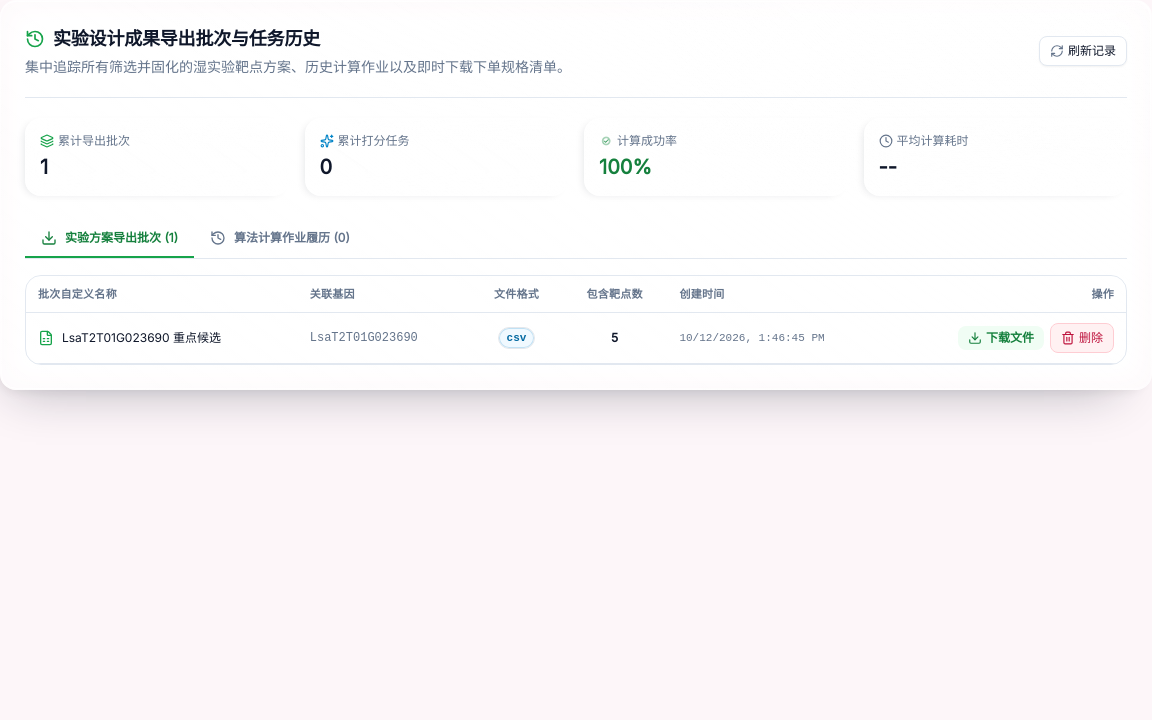
Test case: ExportHistoryPanel › deletes an export batch archive after confirmation
This screenshot has width=1152, height=720.
Expected: the text "LsaT2T01G023690 重点候选" is shown, [62, 330, 221, 346]
Click the button "删除": (1082, 338) [1050, 323, 1114, 353]
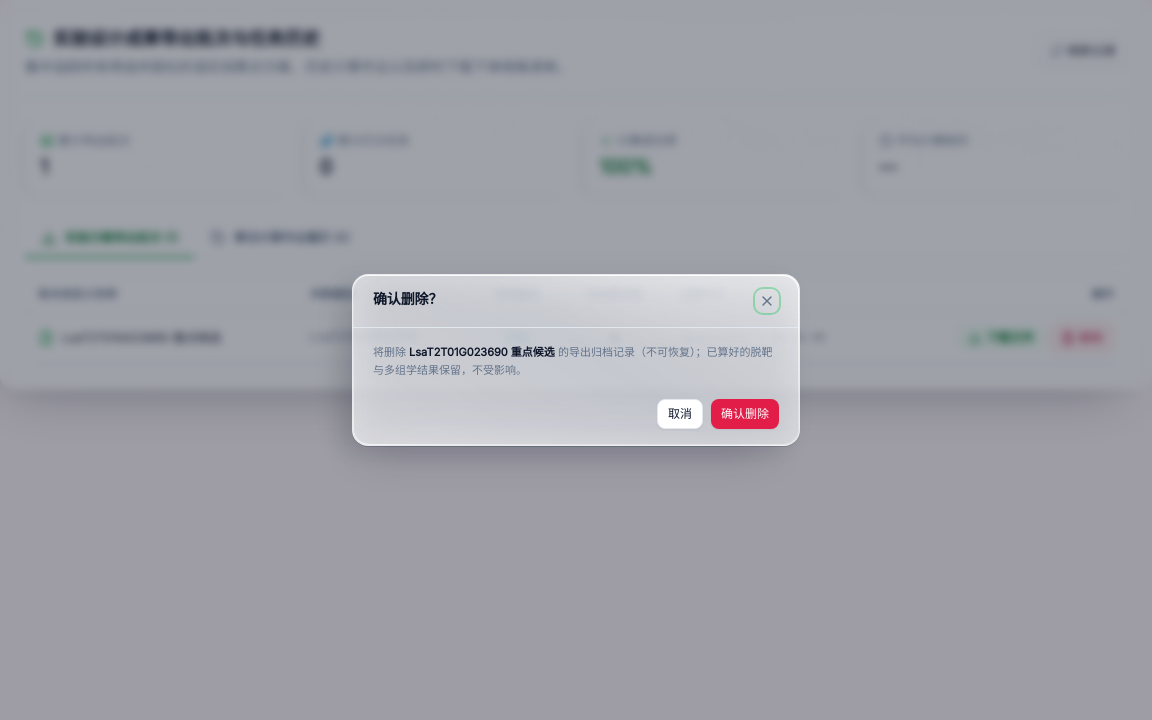
Expected: the text "将删除 LsaT2T01G023690 重点候选 的导出归档记录（不可恢复）；已算好的脱靶与多组学结果保留，不受影响。" is shown, [373, 345, 772, 376]
Click the button "确认删除": (745, 414) [711, 399, 779, 429]
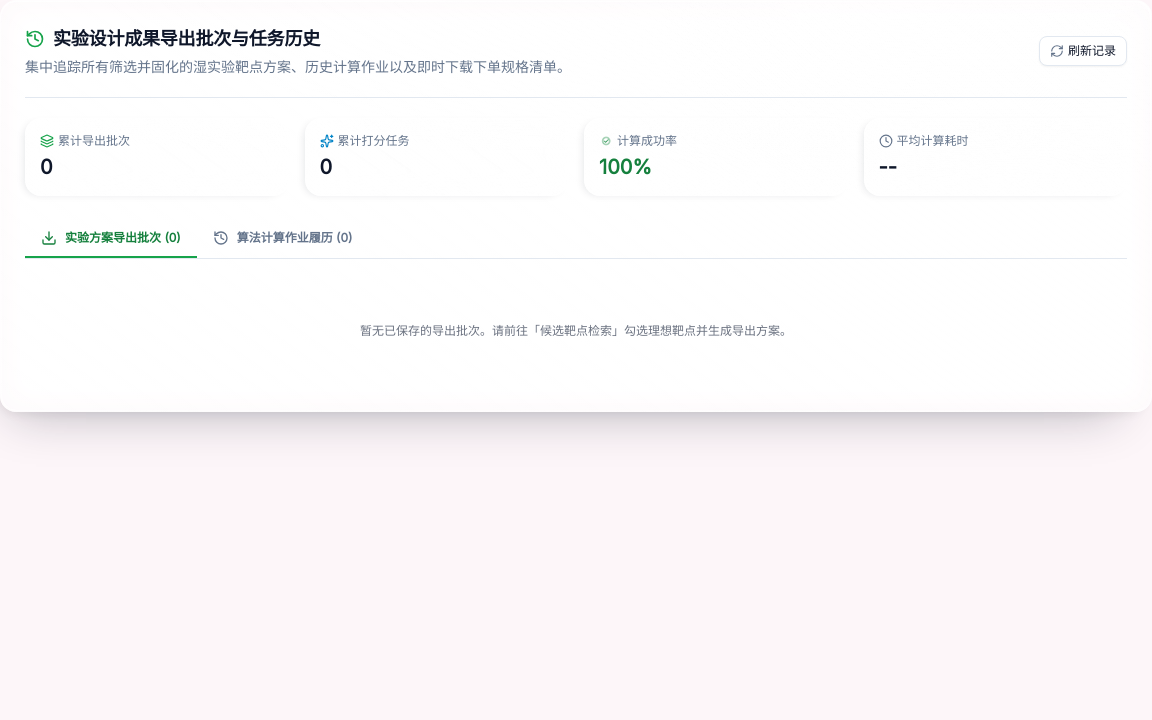
Expected: the text "LsaT2T01G023690 重点候选" is gone
